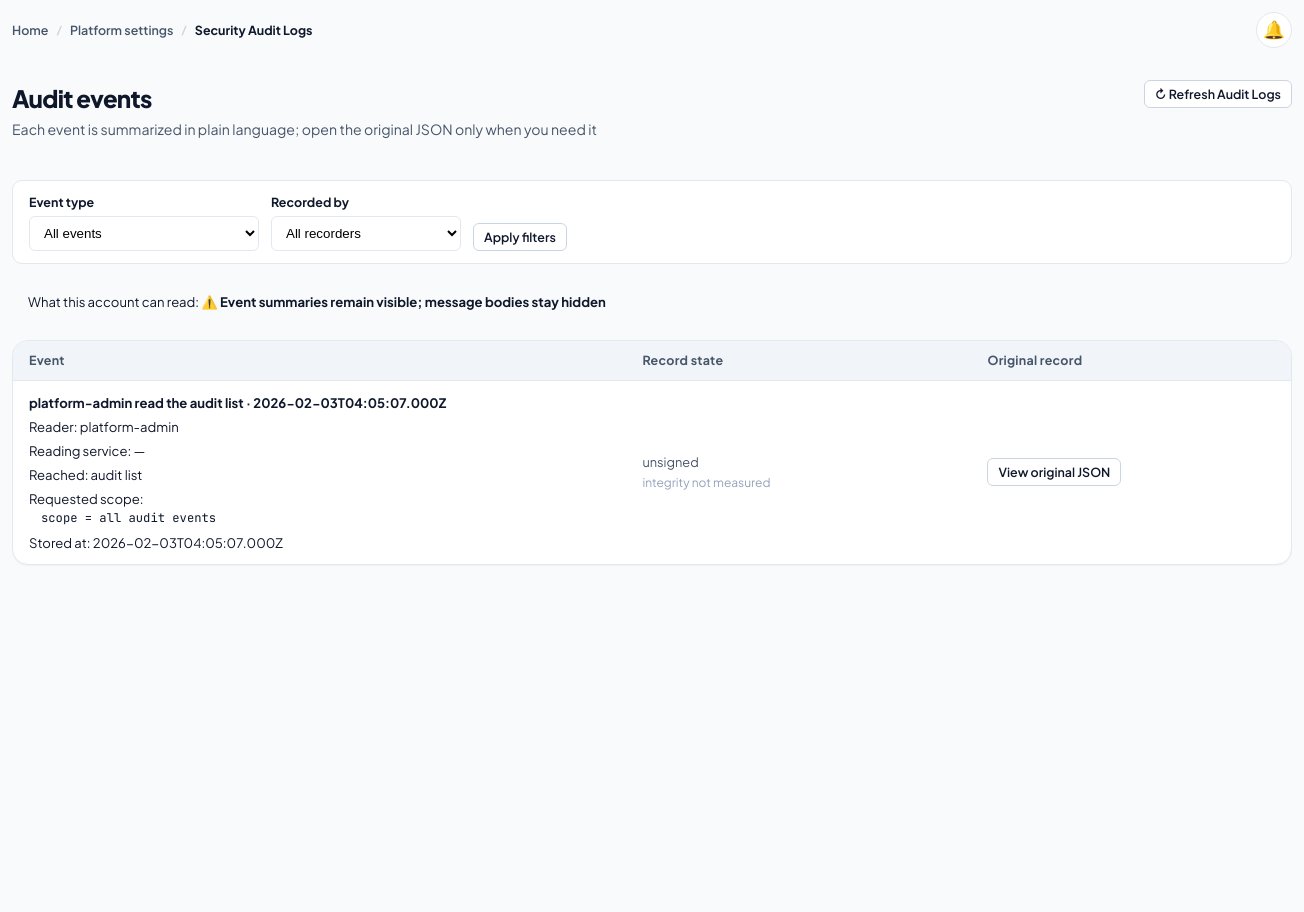
Test: event-shaped audit rows › describes an audit read without a fake recipient and reveals its JSON only on request
This screenshot has width=1304, height=912.
Click the button "View original JSON" at coordinates (1054, 472), box left=988, top=458, right=1121, bottom=486
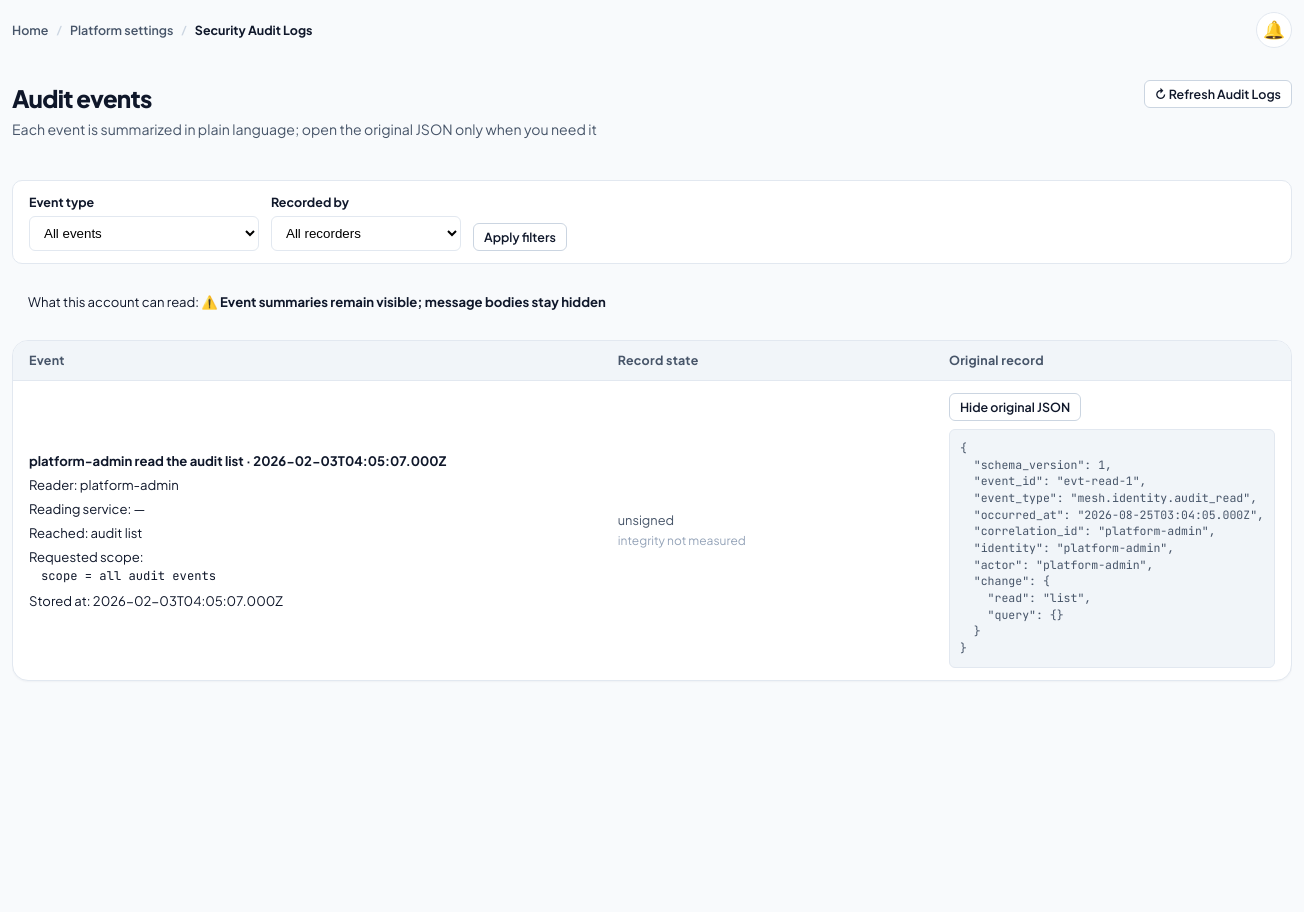
Now the text with test id "audit-raw-json" shows "\"event_type\": \"mesh.identity.audit_read\"", box left=960, top=440, right=1264, bottom=655
